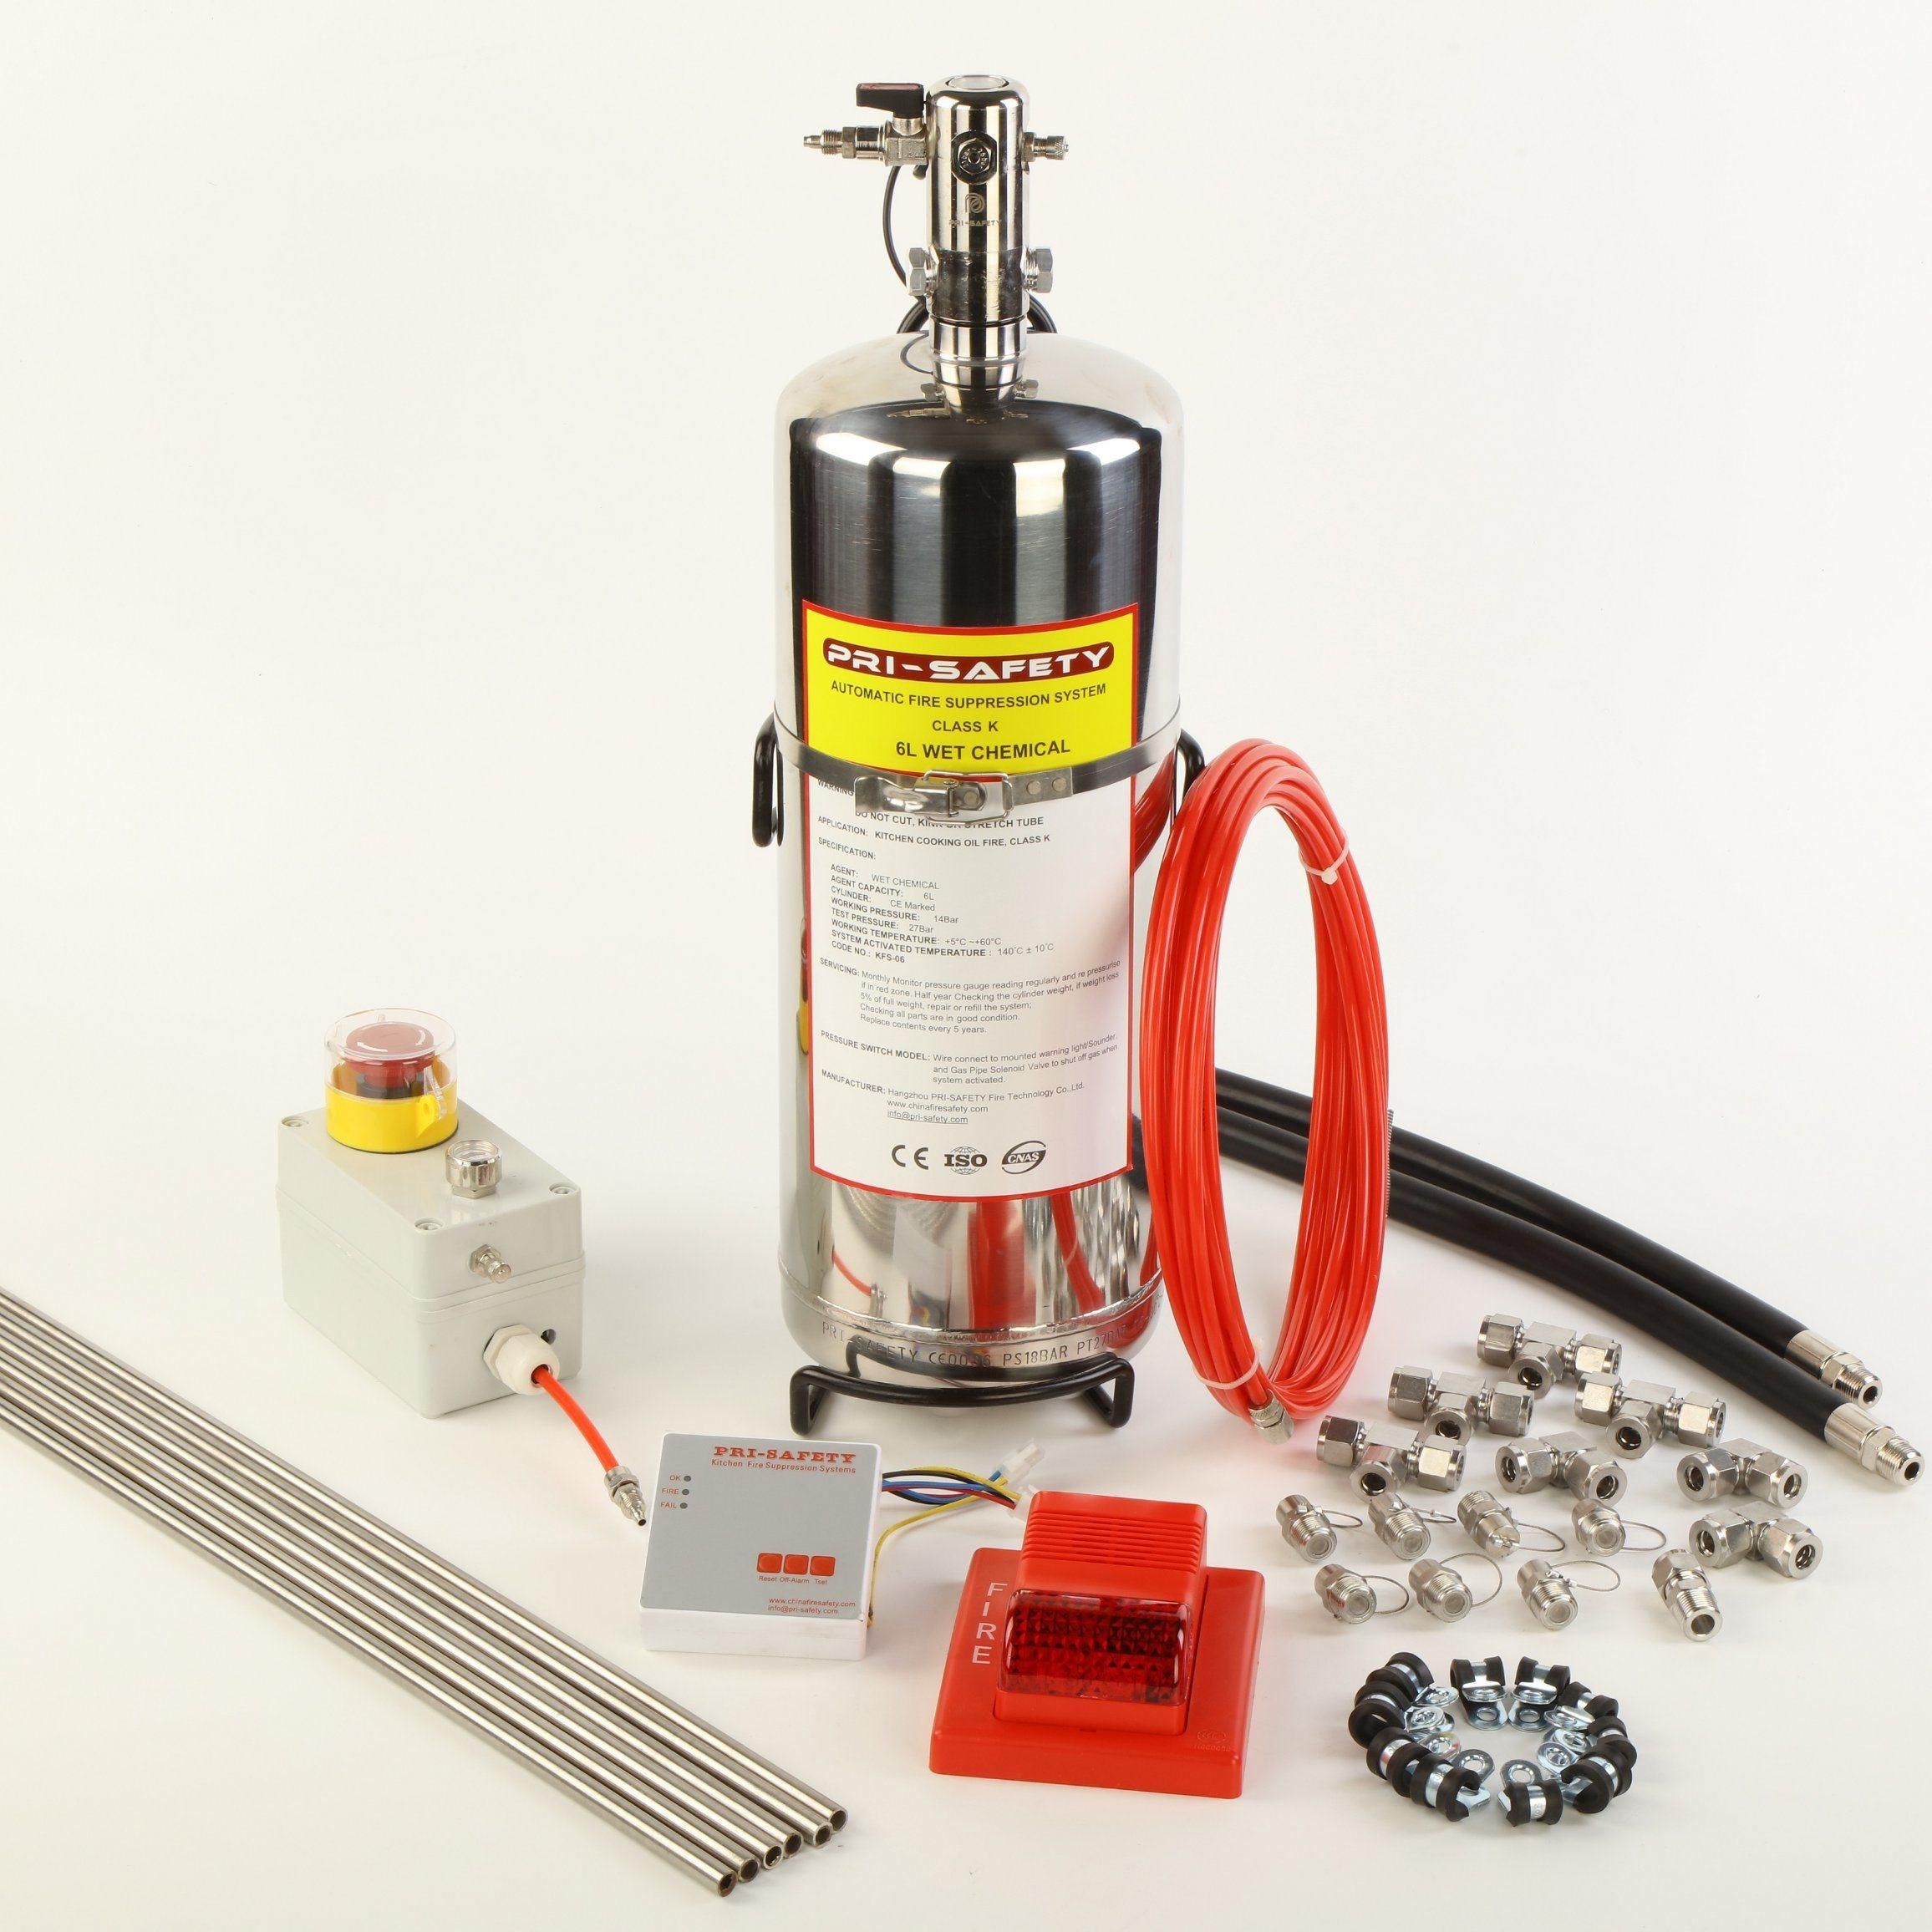Fire Extinguisher: (740, 12, 1270, 1417)
